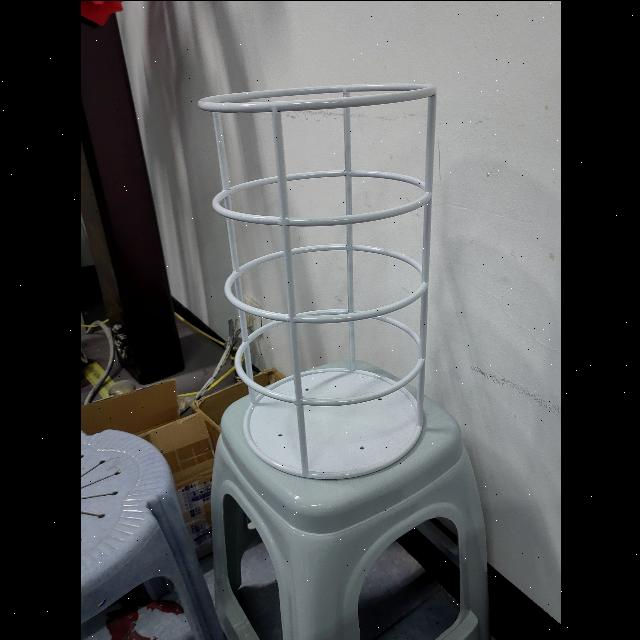S: (192, 77, 440, 485)
